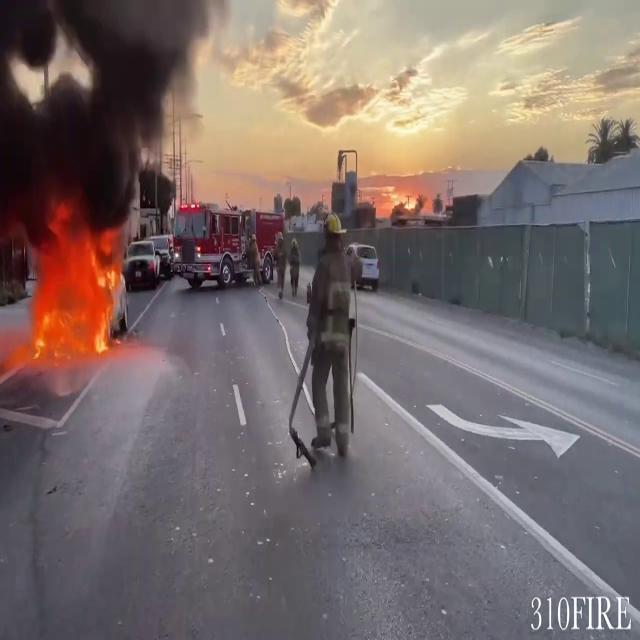Fire: (1, 211, 127, 369)
Smoke: (0, 0, 214, 226)
